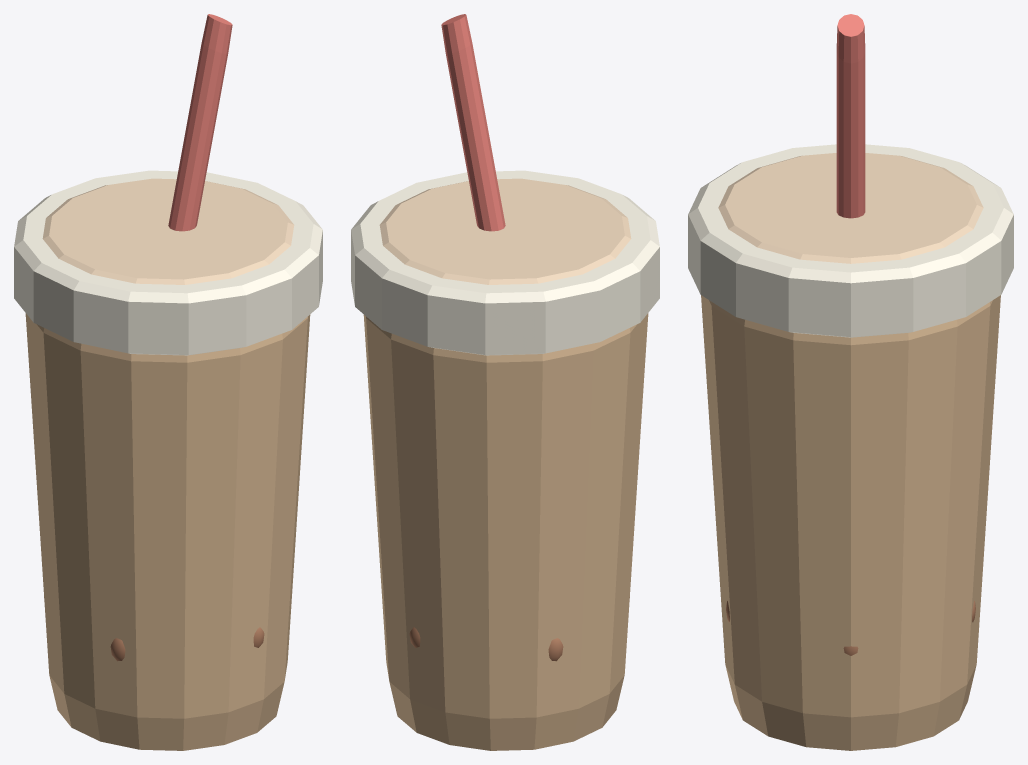
Rendered from milk_tea_cup_1.glb.
3 renders of one model, left to right at view 1: azimuth 30°, elevation 25°; view 2: azimuth 150°, elevation 25°; view 3: azimuth 270°, elevation 25°, orthographic. The views are drawn at different scales.
Visible parts, largest first — view 1: cup, lid, model, straw; view 2: cup, lid, model, straw; view 3: cup, lid, model, straw.
Boxes of the visible parts, x1,y1,x2,y2 form: cup: (25,313,310,750); lid: (14,170,322,355); model: (42,178,294,661); straw: (168,14,232,231); cup: (363,313,648,750); lid: (351,170,659,355); model: (379,178,631,661); straw: (441,14,505,231); cup: (701,295,1000,750); lid: (688,144,1013,337); model: (718,153,983,655); straw: (836,14,865,218).
Size of the model in its own units: 0.2 by 0.48 by 0.2.
